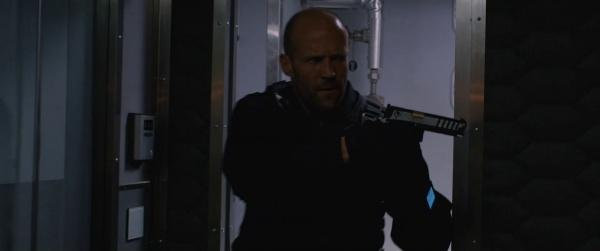Gun: (382, 103, 468, 139)
